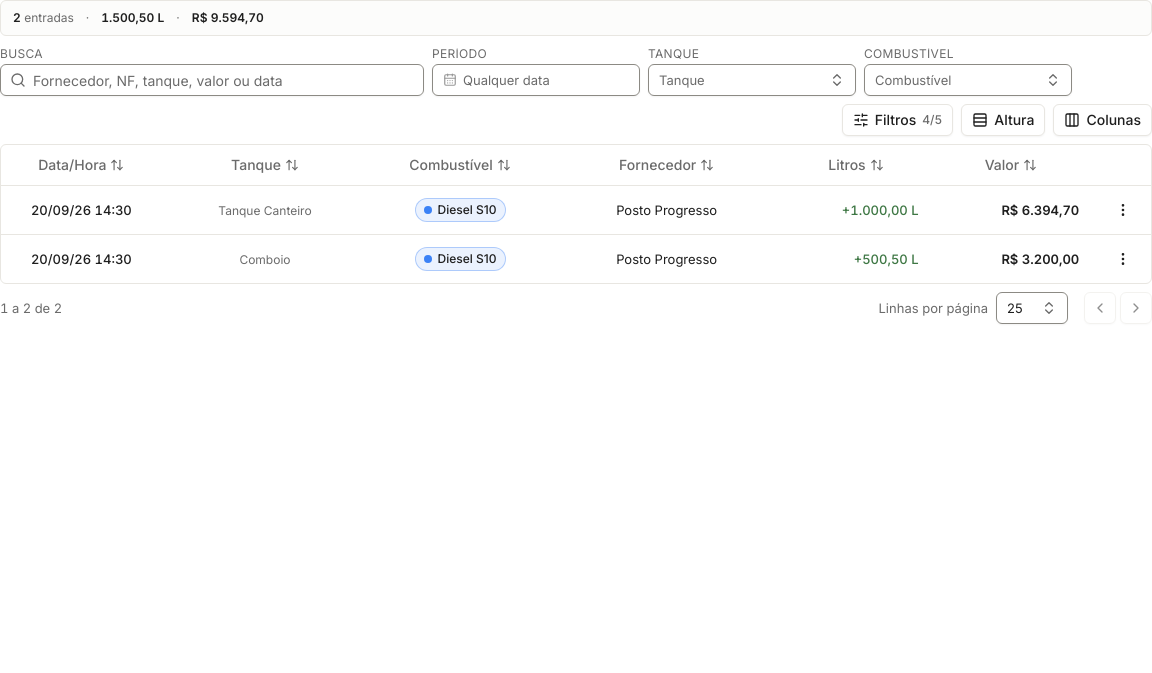
Test: EntradasTabela › clique na linha abre o detalhe com R$/L de 4 casas
Click the text "Tanque Canteiro". click: click(265, 210)
box: [218, 202, 312, 218]
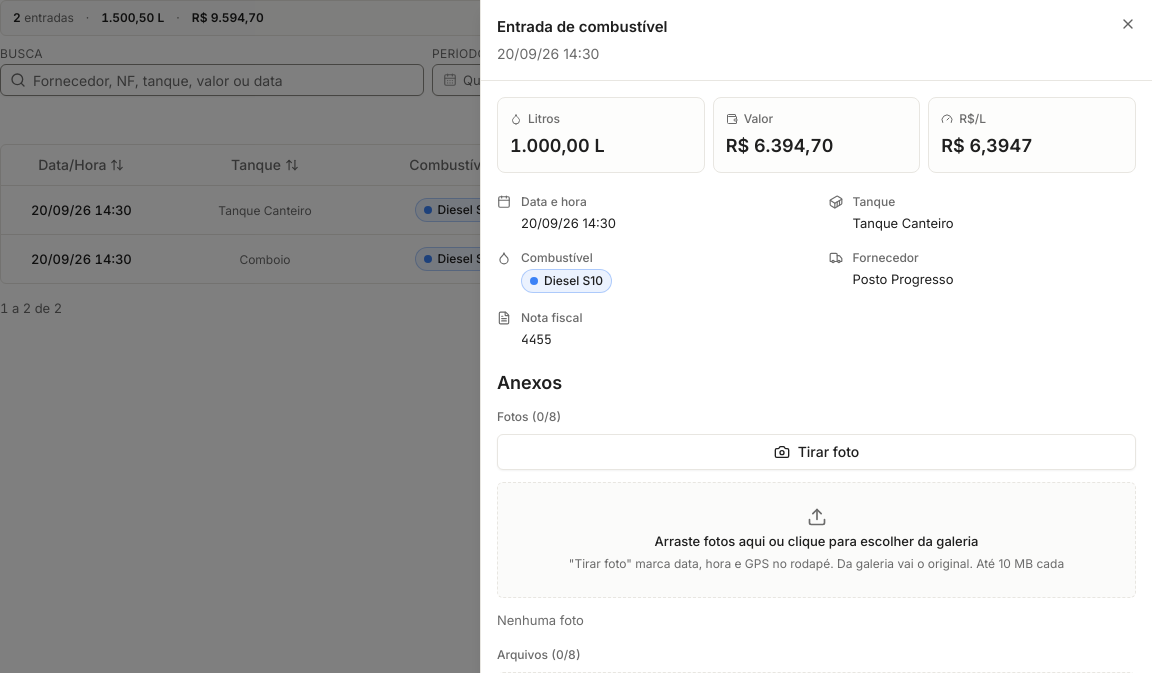
Expected: the heading "Entrada de combustível" is shown, [497, 17, 668, 36]
Expected: the text "Nota fiscal" is shown, [521, 310, 582, 325]
